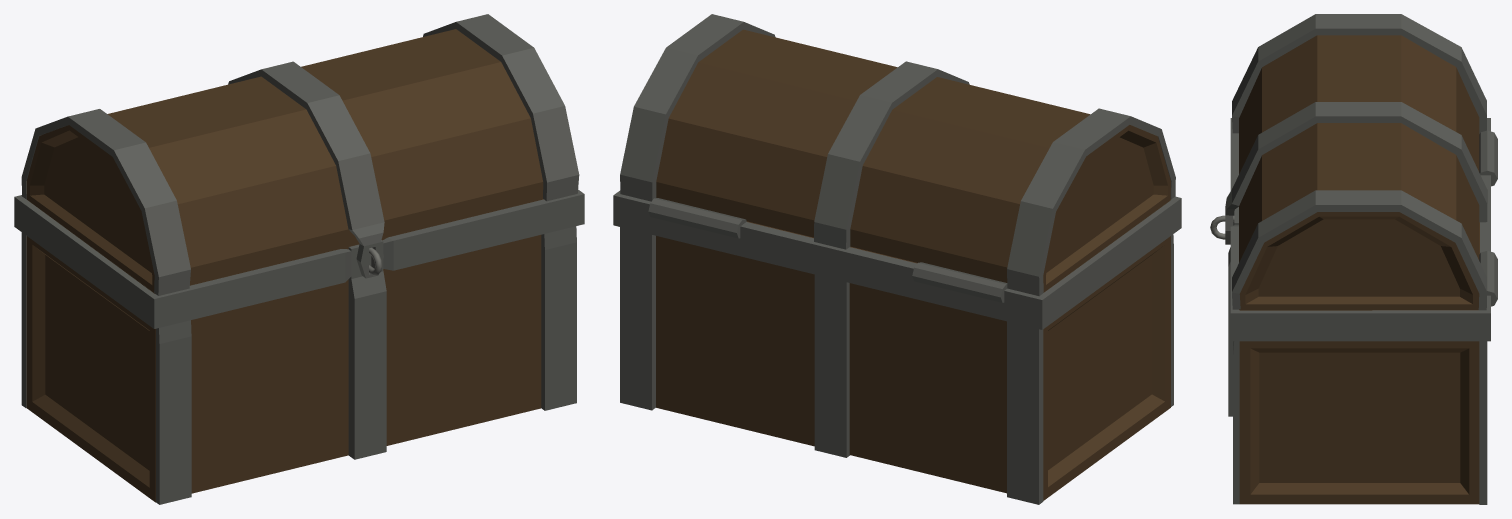
File: Chest-with-lid.glb
3 renders of one model, left to right at view 1: azimuth 30°, elevation 25°; view 2: azimuth 150°, elevation 25°; view 3: azimuth 270°, elevation 25°, orthographic. The views are drawn at different scales.
Parts seen in each view (by area): view 1: Chest, Chest_Lid; view 2: Chest, Chest_Lid; view 3: Chest_Lid, Chest.
Boxes of the visible parts, x1=… form: Chest: x1=14, y1=189, x2=584, y2=504; Chest_Lid: x1=21, y1=14, x2=579, y2=295; Chest: x1=613, y1=190, x2=1181, y2=504; Chest_Lid: x1=620, y1=14, x2=1175, y2=296; Chest_Lid: x1=1225, y1=14, x2=1487, y2=310; Chest: x1=1210, y1=118, x2=1497, y2=504.
Size of the model in its own units: 0.9805 by 0.7035 by 0.6098.
Materials: 5 (5 with a texture image).
